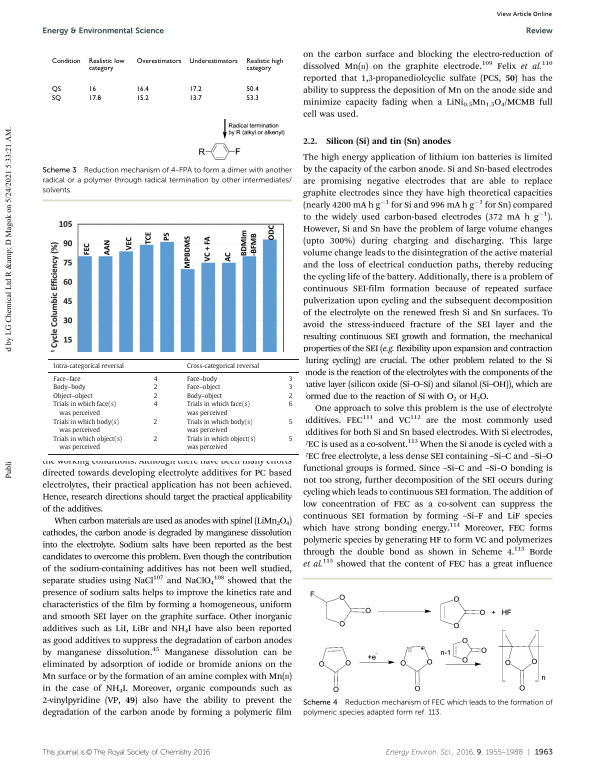borderless: (47, 357, 299, 454), (46, 55, 286, 113)
cell: (52, 435, 123, 452), (186, 435, 257, 452), (52, 417, 120, 434), (186, 417, 254, 434), (52, 400, 117, 417), (186, 400, 251, 417), (245, 57, 284, 73), (87, 57, 125, 73), (186, 362, 260, 370), (52, 362, 125, 370), (188, 57, 238, 66), (135, 57, 182, 66), (52, 392, 94, 400), (52, 383, 87, 392), (186, 383, 221, 392), (186, 392, 223, 400), (51, 57, 81, 66), (186, 375, 218, 383), (52, 375, 82, 383), (135, 85, 149, 94), (188, 85, 202, 94), (245, 85, 259, 94), (87, 94, 101, 103), (135, 94, 149, 103), (188, 94, 202, 103), (245, 94, 259, 103), (51, 85, 61, 94), (51, 94, 61, 103), (87, 85, 96, 94), (288, 383, 294, 392), (288, 400, 294, 409), (288, 417, 294, 426), (288, 375, 294, 383), (288, 392, 294, 400), (288, 435, 294, 443), (153, 383, 158, 392), (153, 400, 158, 409), (153, 417, 158, 426), (153, 375, 158, 383), (153, 392, 158, 400), (153, 435, 158, 443)
